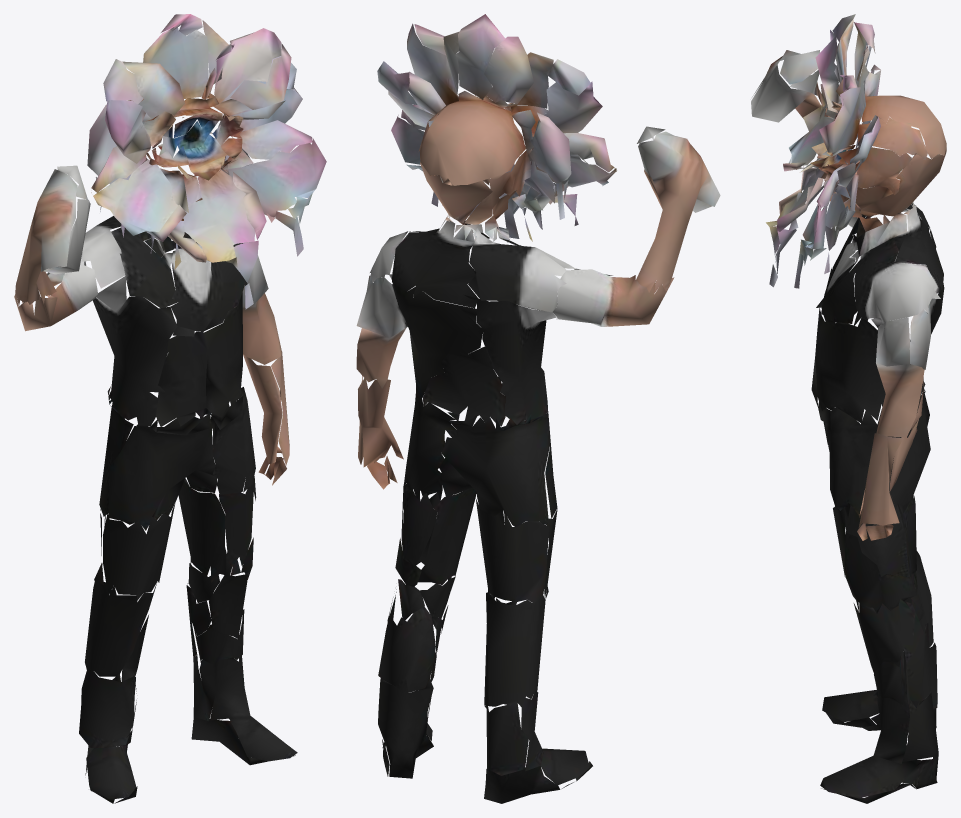
Rendered from crowd_bartender_full.glb.
3 renders of one model, left to right at view 1: azimuth 30°, elevation 25°; view 2: azimuth 150°, elevation 25°; view 3: azimuth 270°, elevation 25°, orthographic. The views are drawn at different scales.
Visible parts, largest first — view 1: tripo_node_8f611393-628a-4c04-9a16-76a25f729728; view 2: tripo_node_8f611393-628a-4c04-9a16-76a25f729728; view 3: tripo_node_8f611393-628a-4c04-9a16-76a25f729728.
Part boxes in pixels (x1,y1,x2,y2): tripo_node_8f611393-628a-4c04-9a16-76a25f729728: [14, 14, 326, 803]; tripo_node_8f611393-628a-4c04-9a16-76a25f729728: [356, 14, 720, 803]; tripo_node_8f611393-628a-4c04-9a16-76a25f729728: [751, 14, 946, 803].
Size of the model in its own units: 0.4238 by 0.9994 by 0.243.
Materials: 1 (1 with a texture image).
